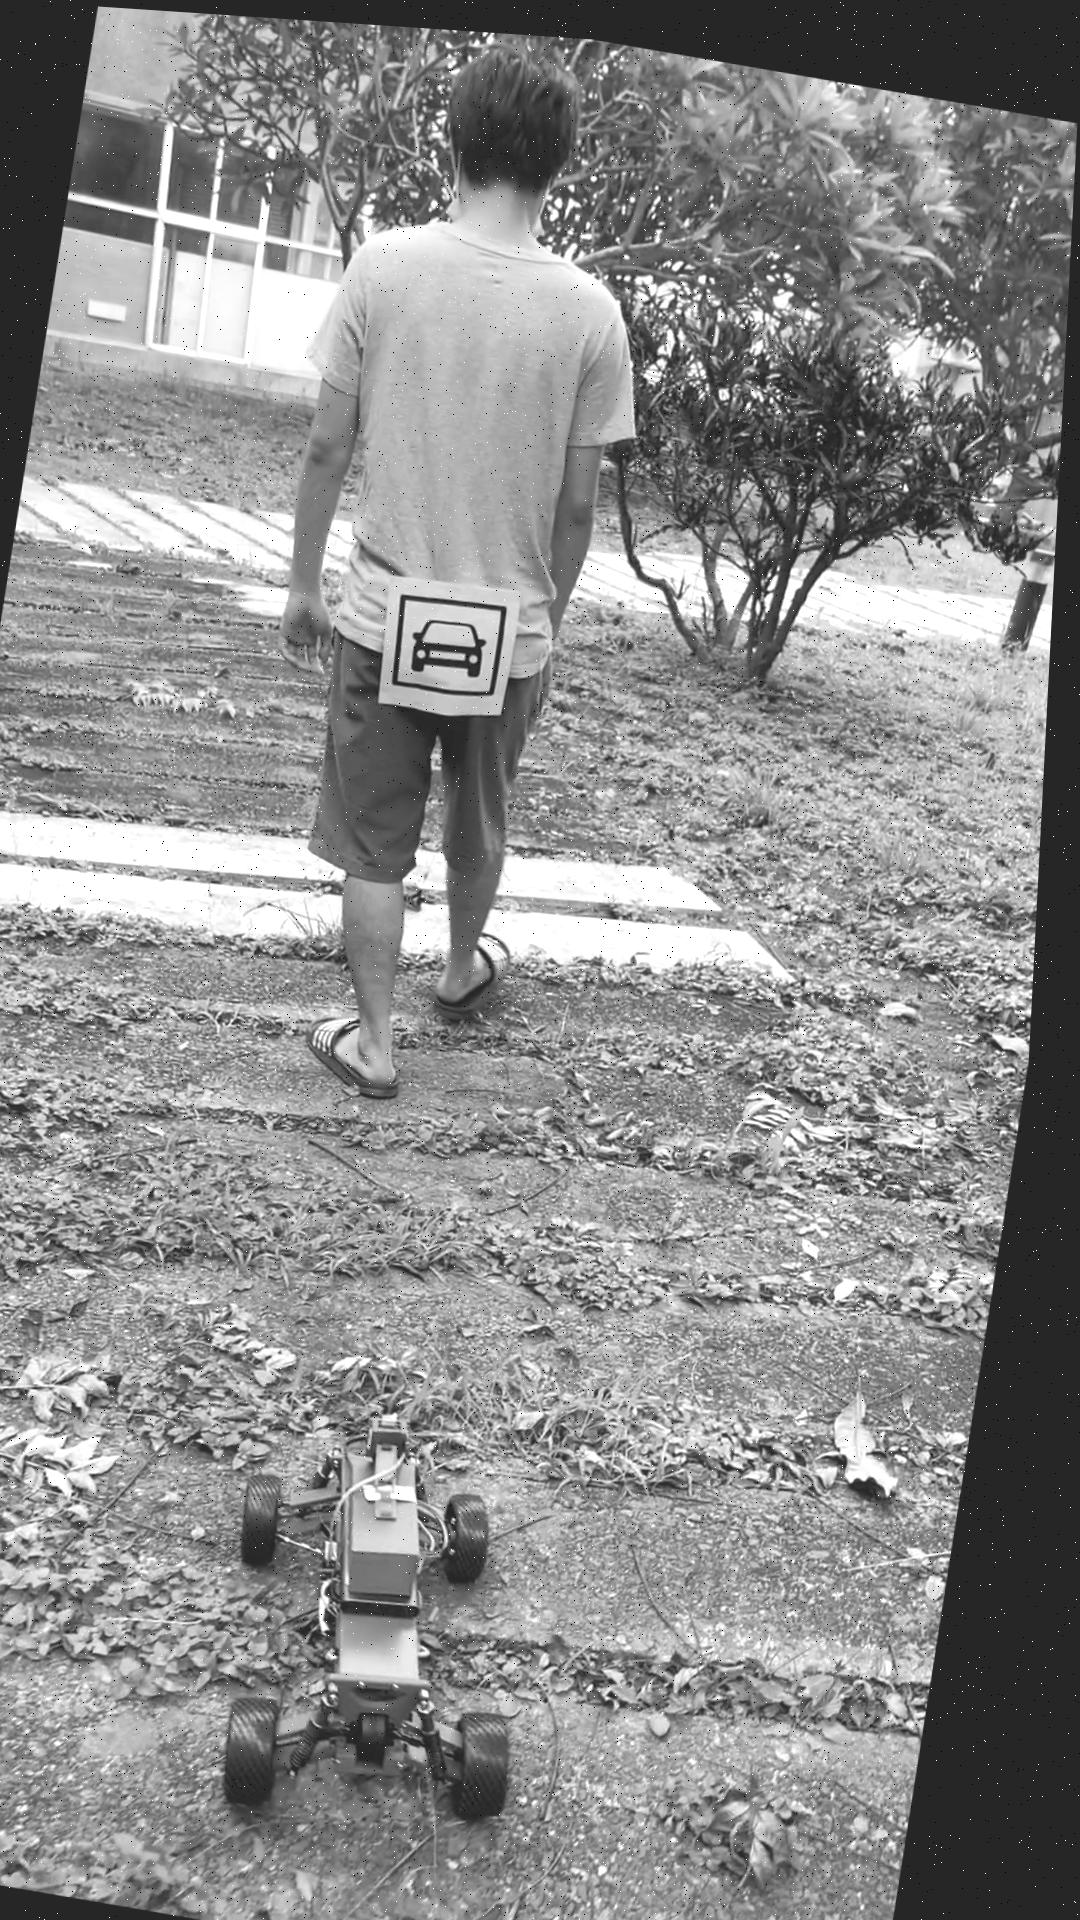car_img: (393, 580, 516, 696)
